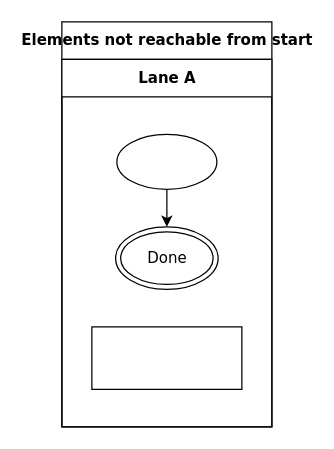
Some shapes in this 334 by 449 pixel diagram are drawn without their labels. Each missing label, with the centre of its shape:
"Enter" goes at point (166, 161).
"Orphan task" goes at point (166, 357).
